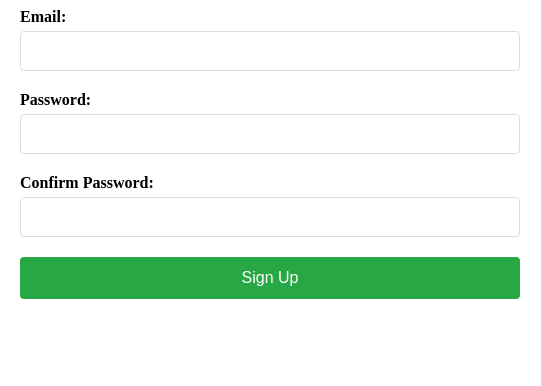
Form Component › Form Integration Tests › should handle a complete user workflow
Note: User types email
Type "user@example.com" into the field with test id "email-input" at (270, 51), box [20,31,520,71]
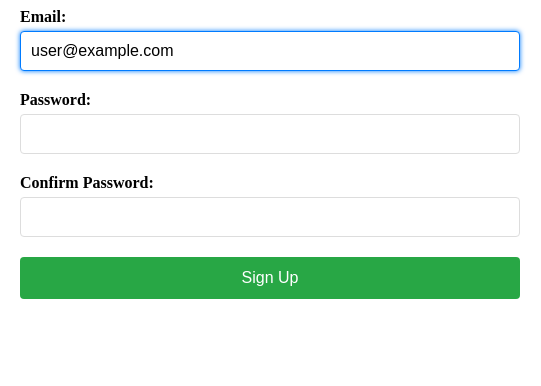
Note: User types password
Type "password123" into the password field with test id "password-input" at (270, 134), box [20,114,520,154]
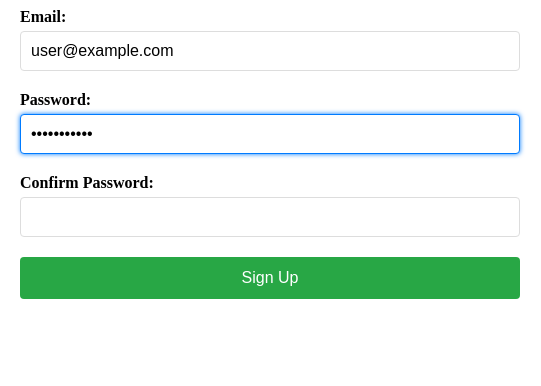
Note: User confirms password
Type "password123" into the password field with test id "confirm-password-input" at (270, 217), box [20,197,520,237]
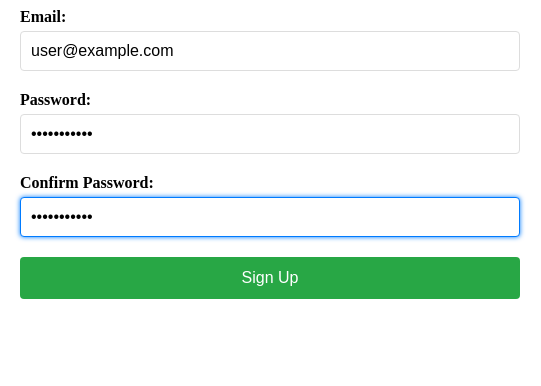
Note: User clicks submit
Click the button with test id "submit-button" at (270, 278), box [20,257,520,299]
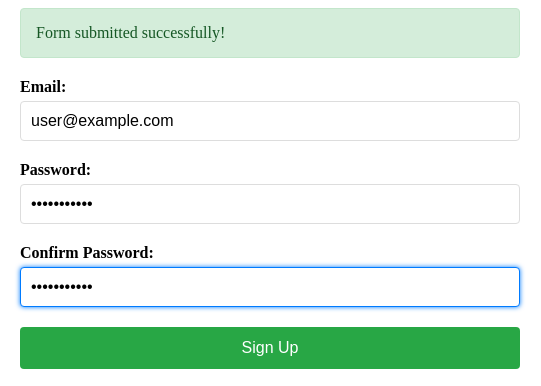
Now the text with test id "success-message" reads "Form submitted successfully!", box [36,24,225,41]
